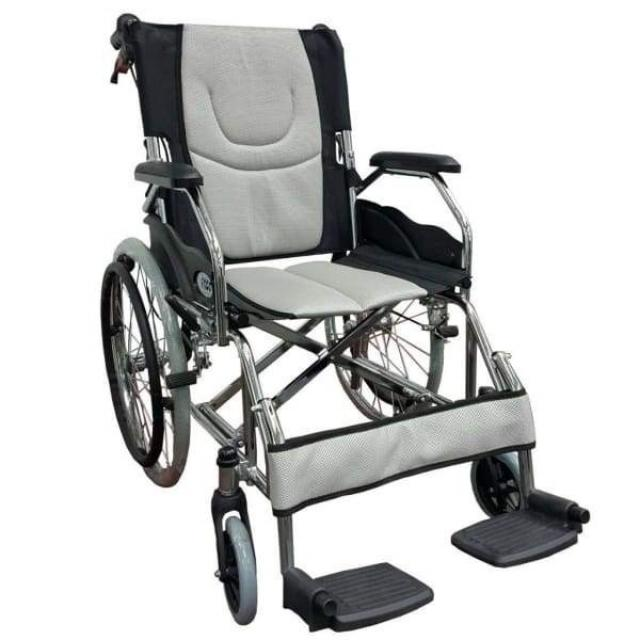wheelchair: (91, 5, 602, 640)
